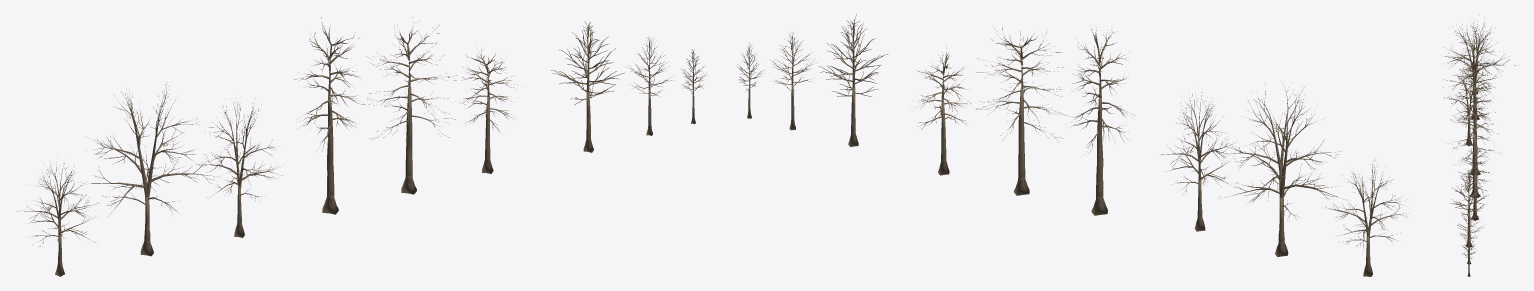
The model's file is Chopped Trees A.fbx.
The picture shows the model from 3 angles, left to right: view 1: azimuth 30°, elevation 25°; view 2: azimuth 150°, elevation 25°; view 3: azimuth 270°, elevation 25°; orthographic projection. The views are drawn at different scales.
Visible parts, largest first — view 1: Branched_Tree_1A2, Branched_Tree_1A3, Branched_Tree_1B1, Branched_Tree_1C1, Branched_Tree_1B2, Branched_Tree_1A1, Branched_Tree_1B3, Choppable_Tree_1A1.006, Branched_Tree_1C2, Choppable_Tree_1A1.024; view 2: Branched_Tree_1A2, Branched_Tree_1A3, Branched_Tree_1B2, Branched_Tree_1B1, Branched_Tree_1C1, Branched_Tree_1A1, Branched_Tree_1B3, Branched_Tree_1C2, Choppable_Tree_1A1.006, Choppable_Tree_1A1.024; view 3: Branched_Tree_1A2, Branched_Tree_1B1, Branched_Tree_1C1, Branched_Tree_1B2, Branched_Tree_1A3, Branched_Tree_1B3, Branched_Tree_1A1, Branched_Tree_1C2, Choppable_Tree_1A1.024, Branched_Tree_1C3, Choppable_Tree_1A1.006, Choppable_Tree_1A1.020 (+1 smaller).
Part boxes in pixels (x1,y1,x2,y2): Branched_Tree_1A2: (78, 82, 219, 217); Branched_Tree_1A3: (195, 97, 282, 201); Branched_Tree_1B1: (294, 17, 361, 151); Branched_Tree_1C1: (551, 21, 624, 104); Branched_Tree_1B2: (362, 17, 456, 140); Branched_Tree_1A1: (16, 162, 98, 246); Branched_Tree_1B3: (460, 49, 518, 134); Choppable_Tree_1A1.006: (327, 96, 334, 193); Branched_Tree_1C2: (629, 37, 672, 95); Choppable_Tree_1A1.024: (405, 87, 412, 174); Branched_Tree_1A2: (1219, 87, 1344, 219); Branched_Tree_1A3: (1162, 92, 1235, 194); Branched_Tree_1B2: (975, 27, 1067, 141); Branched_Tree_1B1: (1069, 29, 1134, 154); Branched_Tree_1C1: (818, 14, 888, 96); Branched_Tree_1A1: (1325, 160, 1407, 252); Branched_Tree_1B3: (913, 45, 970, 129); Branched_Tree_1C2: (770, 31, 816, 94); Choppable_Tree_1A1.006: (1096, 98, 1103, 194); Choppable_Tree_1A1.024: (1018, 89, 1025, 175); Branched_Tree_1A2: (1443, 22, 1515, 91); Branched_Tree_1B1: (1458, 64, 1492, 131); Branched_Tree_1C1: (1450, 169, 1488, 219); Branched_Tree_1B2: (1446, 90, 1499, 165); Branched_Tree_1A3: (1444, 61, 1489, 121); Branched_Tree_1B3: (1459, 148, 1489, 194); Branched_Tree_1A1: (1454, 26, 1499, 76); Branched_Tree_1C2: (1457, 205, 1484, 239); Choppable_Tree_1A1.024: (1472, 135, 1477, 185); Branched_Tree_1C3: (1462, 232, 1475, 258); Choppable_Tree_1A1.006: (1472, 105, 1477, 162); Choppable_Tree_1A1.020: (1473, 175, 1476, 209).
Size of the model in its own units: 7744 by 2114 by 1321.
